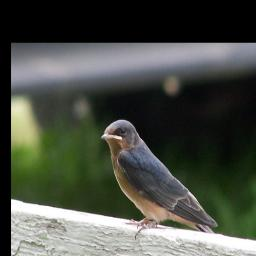Swallow: (100, 119, 219, 241)
